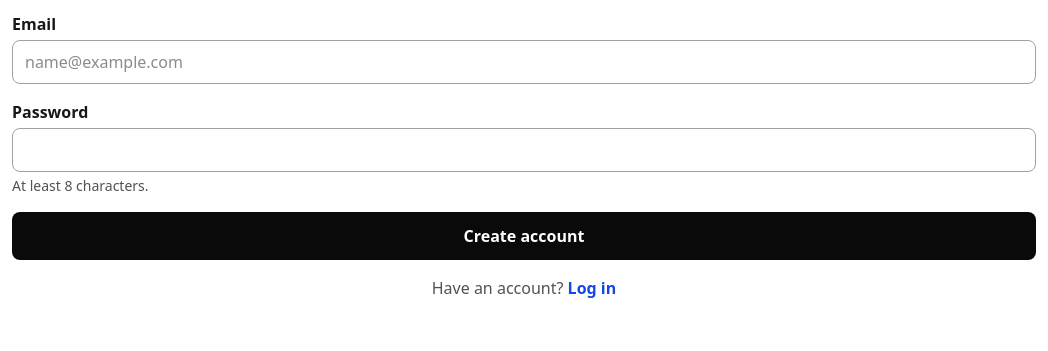
Test case: sign up explains a used email and a short password
The width and height of the screenshot is (1048, 351).
Type "kiri@example.com" into the field labelled "Email".
click(524, 62); type("kiri@example.com")  # box [12,40,1036,84]
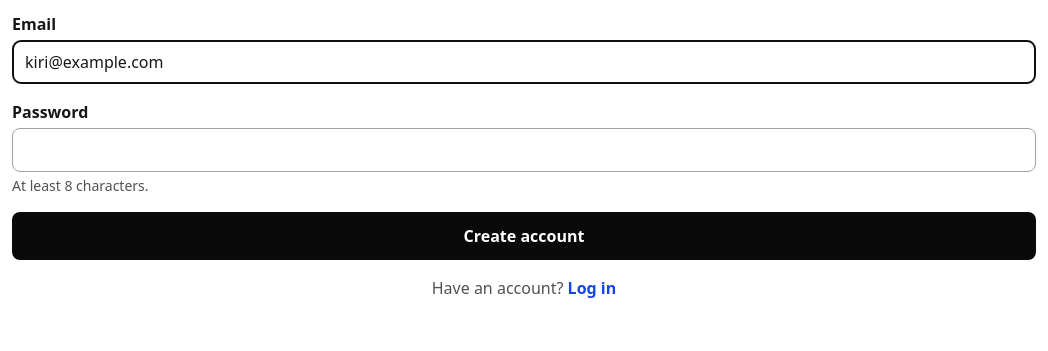
Type "short" into the password field labelled "Password".
click(524, 150); type("short")  # box [12,128,1036,172]
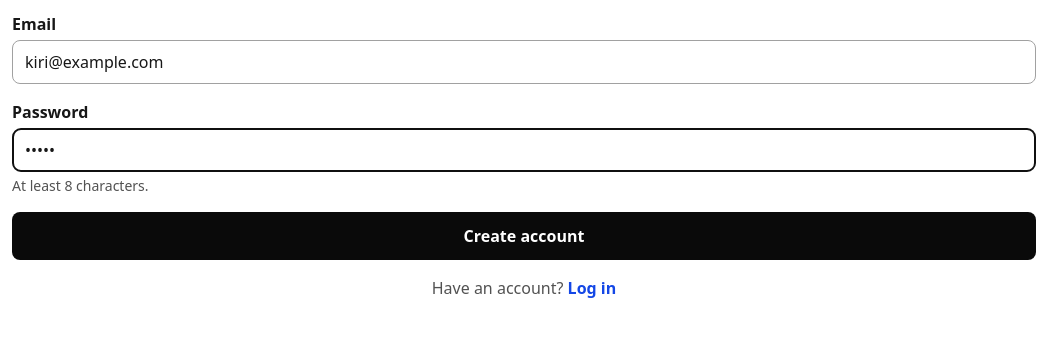
Click the button "Create account".
click(524, 236)  # box [12,212,1036,260]
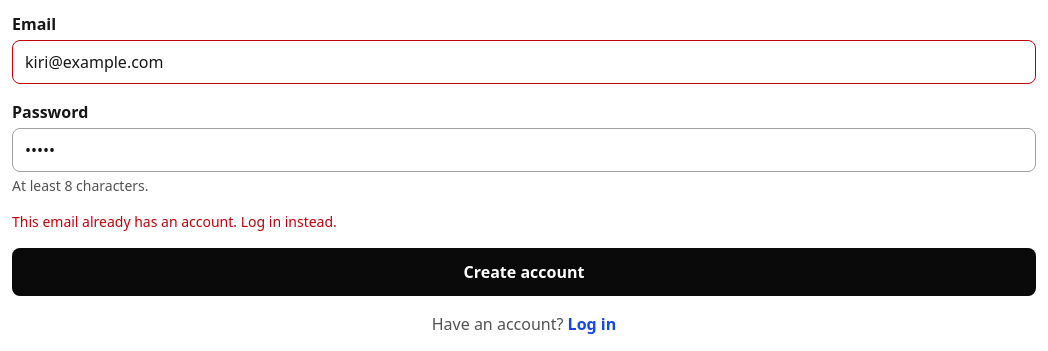
expect the message shows "This email already has an account.": met, box [12,212,337,231]
Click the button "Create account".
click(524, 272)  # box [12,248,1036,296]
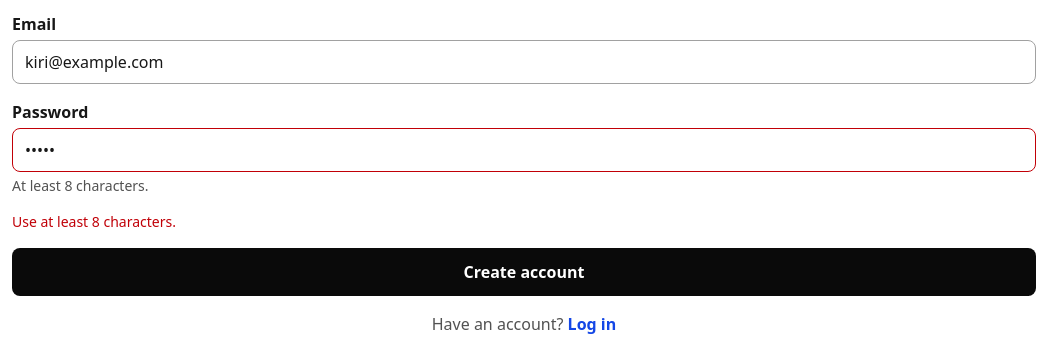
expect the message reads "Use at least 8 characters.": met, box [12,212,176,231]
